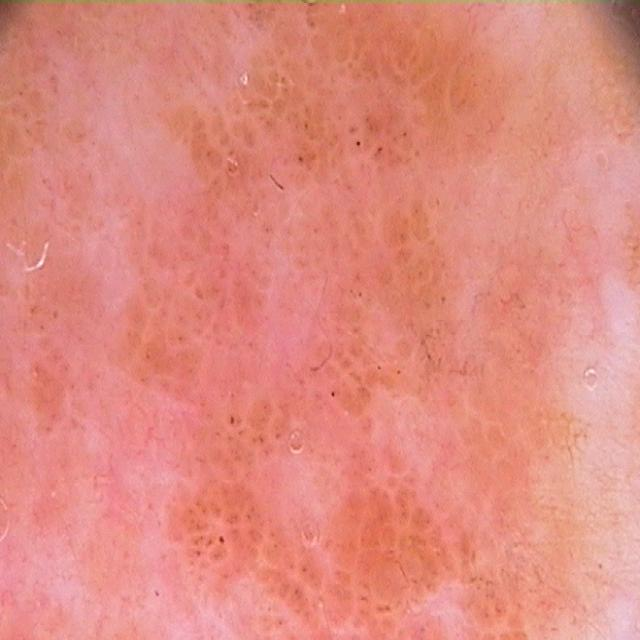Melanoma: (163, 86, 417, 449), (52, 495, 365, 640), (431, 484, 552, 640)
